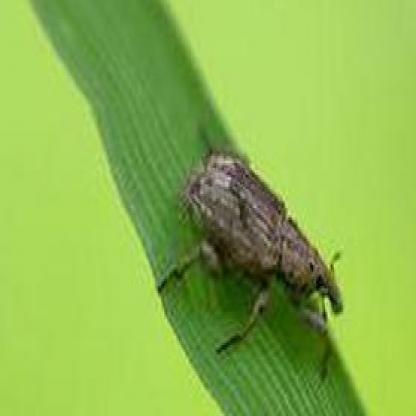rice-bug: (180, 147, 348, 335)
